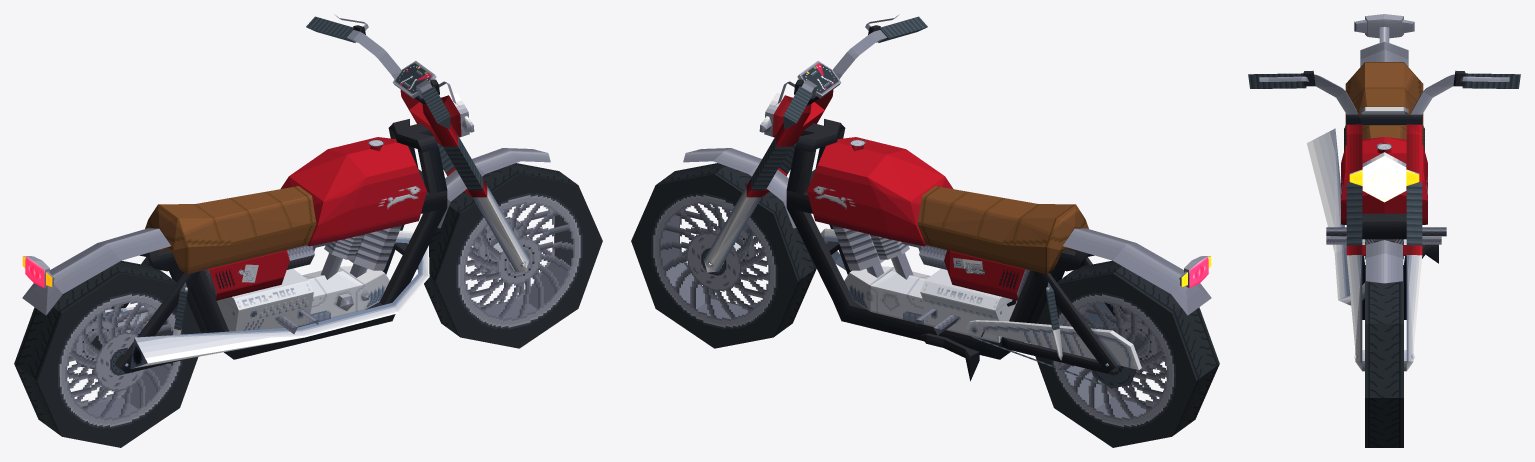
3 renders of one model, left to right at view 1: azimuth 30°, elevation 25°; view 2: azimuth 150°, elevation 25°; view 3: azimuth 270°, elevation 25°, orthographic.
Parts seen in each view (by area): view 1: Internals, WheelF, WheelF.002, Fork; view 2: Internals, WheelF, WheelF.002, Fork, Chain, Stand; view 3: Fork, Internals, WheelF.
Part boxes in pixels (x1,y1,x2,y2): Internals: (22,119,447,373); WheelF: (417,163,602,348); WheelF.002: (14,260,200,447); Fork: (306,14,550,272); Internals: (786,119,1211,373); WheelF: (631,163,816,348); WheelF.002: (1031,260,1219,447); Fork: (683,14,927,272); Chain: (966,320,1141,388); Stand: (920,333,979,381); Fork: (1248,70,1520,371); Internals: (1307,14,1446,319); WheelF: (1365,266,1403,447).
Bounding box in the file's own units: 6.8 × 3.62 × 2.82.
12 materials, 12 textured.
